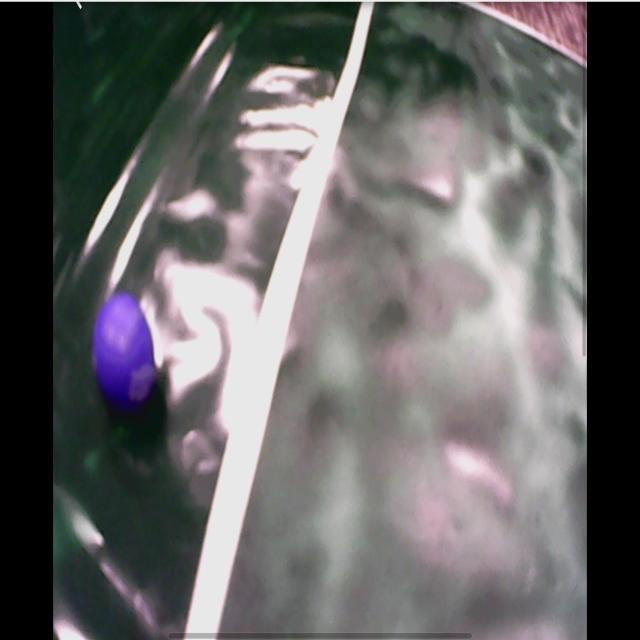ball: (87, 298, 158, 402)
